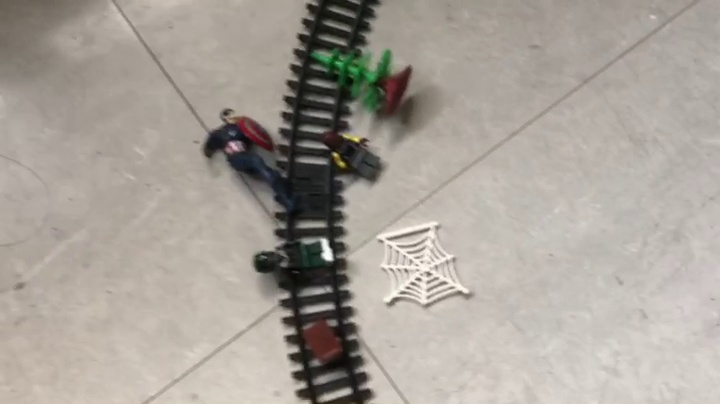box: (299, 317, 346, 365)
people: (203, 108, 308, 215), (253, 236, 337, 287), (320, 127, 384, 185)
tree: (305, 49, 416, 121)
web: (375, 221, 471, 306)
